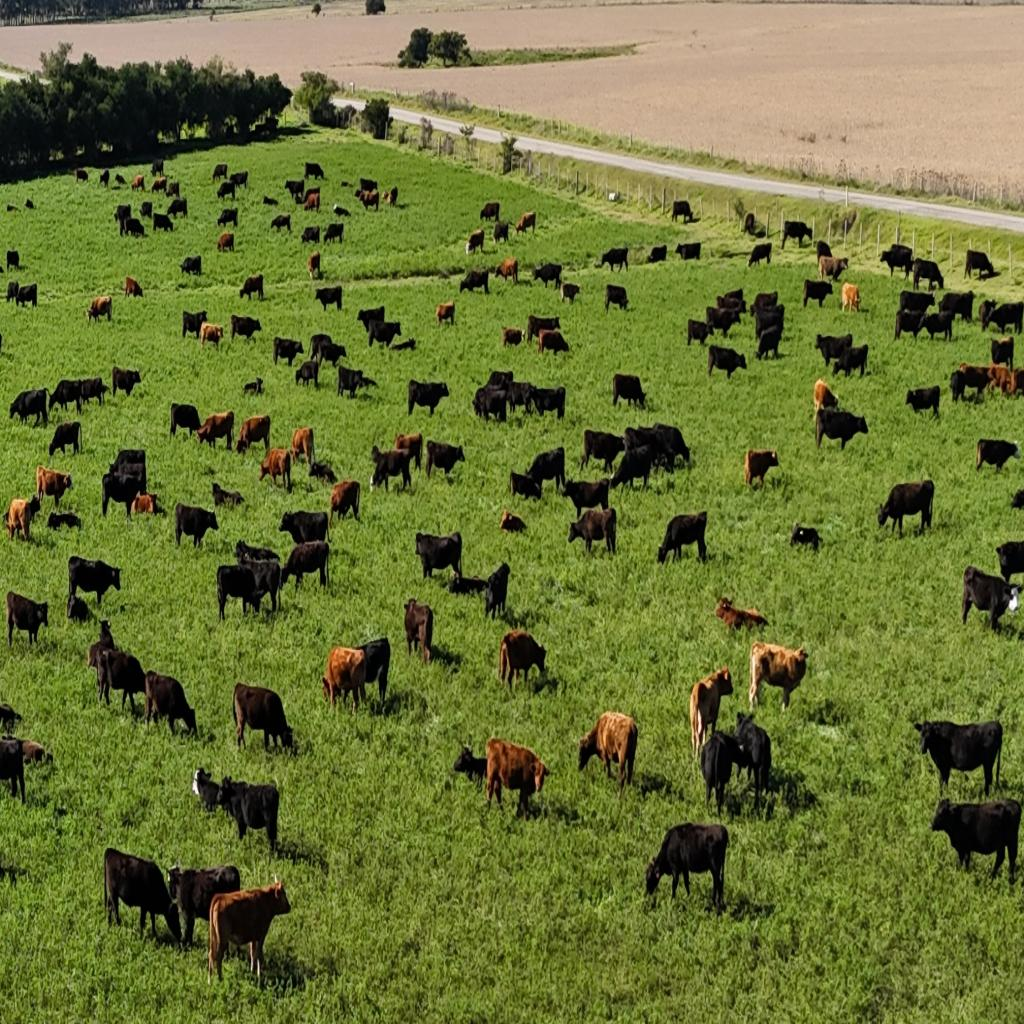cow: (207, 874, 293, 986), (931, 795, 1021, 882), (104, 847, 181, 941), (647, 822, 723, 914), (916, 716, 1003, 795), (168, 862, 241, 954), (483, 737, 548, 819), (579, 708, 638, 798), (220, 778, 282, 854), (232, 680, 293, 754), (699, 728, 747, 815), (750, 640, 808, 712), (960, 564, 1021, 632), (689, 664, 731, 759), (732, 707, 771, 805), (144, 669, 197, 735), (876, 477, 934, 537), (96, 646, 148, 712), (322, 646, 368, 712), (67, 555, 121, 610), (499, 629, 546, 692), (216, 563, 262, 622), (281, 539, 330, 593), (814, 406, 869, 454), (414, 529, 462, 582), (354, 636, 390, 706), (2, 737, 53, 786), (658, 513, 704, 566), (568, 505, 614, 556), (6, 590, 47, 646), (368, 445, 414, 494), (173, 502, 219, 549), (644, 423, 690, 469), (101, 471, 144, 520), (609, 446, 654, 492), (279, 508, 329, 548), (526, 446, 566, 494), (86, 624, 118, 684), (403, 598, 433, 660), (715, 598, 767, 633), (191, 766, 228, 814), (564, 476, 608, 516), (36, 464, 74, 510), (6, 494, 40, 544), (426, 439, 466, 481), (582, 430, 622, 472), (407, 378, 449, 417), (8, 388, 48, 428), (328, 479, 362, 526), (452, 744, 488, 788), (195, 411, 234, 451), (743, 448, 780, 490), (47, 420, 86, 459), (473, 384, 511, 424), (525, 385, 566, 422), (484, 562, 510, 620), (975, 438, 1019, 472), (258, 448, 292, 492), (952, 366, 989, 405), (984, 300, 1024, 336), (48, 378, 85, 416), (707, 344, 746, 380), (831, 344, 870, 380), (236, 414, 270, 455), (815, 332, 853, 368), (108, 448, 146, 484), (612, 372, 646, 410), (500, 380, 534, 418), (995, 540, 1024, 583), (880, 245, 914, 281), (336, 364, 370, 400), (706, 305, 742, 339), (393, 432, 423, 472), (234, 539, 280, 565), (905, 385, 940, 419), (986, 364, 1021, 398), (169, 402, 201, 438), (911, 258, 944, 292), (527, 314, 561, 347), (941, 292, 974, 325), (895, 308, 928, 341), (752, 303, 784, 337), (312, 337, 347, 368), (754, 324, 783, 361), (964, 250, 997, 282), (509, 470, 542, 502), (291, 426, 315, 470), (448, 572, 488, 598), (273, 336, 304, 368), (922, 312, 954, 343), (112, 365, 142, 398), (898, 290, 933, 318), (780, 220, 812, 250), (230, 314, 262, 343), (211, 482, 245, 509), (813, 378, 837, 416), (818, 255, 849, 284), (538, 328, 570, 356), (80, 377, 108, 409), (790, 523, 821, 551), (596, 246, 627, 274), (181, 309, 208, 341), (803, 280, 833, 308), (460, 268, 490, 296), (357, 306, 385, 336), (86, 294, 113, 324), (314, 285, 342, 313), (533, 262, 562, 289), (0, 702, 23, 736), (294, 359, 320, 389), (990, 336, 1015, 367), (500, 507, 527, 534), (746, 241, 772, 269), (238, 274, 264, 302), (48, 511, 81, 533), (66, 594, 90, 624), (688, 319, 712, 349), (199, 321, 224, 349), (308, 460, 336, 484), (604, 284, 628, 312), (494, 256, 518, 284), (751, 290, 779, 314), (840, 282, 860, 314), (717, 288, 745, 310), (484, 370, 513, 390), (435, 300, 455, 328), (355, 189, 378, 213), (672, 199, 694, 224), (16, 283, 38, 308), (121, 217, 146, 239), (515, 210, 536, 236), (114, 204, 132, 234), (0, 856, 18, 886), (180, 254, 202, 278), (502, 326, 524, 349), (742, 212, 763, 236), (323, 222, 344, 246), (166, 198, 188, 220), (676, 242, 700, 262), (560, 281, 580, 305), (284, 179, 304, 203), (466, 228, 484, 254), (479, 201, 500, 223), (300, 224, 321, 246), (216, 208, 238, 229), (123, 276, 143, 299), (492, 220, 510, 245), (242, 378, 264, 398), (152, 212, 174, 232), (216, 230, 234, 254), (388, 337, 416, 352), (646, 244, 667, 264), (307, 251, 321, 280), (304, 162, 324, 182), (216, 181, 236, 201), (270, 214, 292, 232), (229, 171, 248, 191), (358, 176, 378, 194), (304, 190, 320, 212), (6, 280, 20, 304), (816, 240, 832, 261), (6, 249, 20, 271), (150, 177, 167, 195), (212, 163, 228, 182), (382, 188, 396, 207), (332, 204, 350, 218), (131, 174, 145, 192), (150, 160, 164, 177), (166, 181, 180, 198), (74, 168, 88, 184), (98, 170, 110, 188), (262, 195, 280, 207), (140, 202, 152, 220), (1015, 488, 1024, 510), (114, 174, 126, 186), (25, 198, 34, 210), (6, 204, 19, 212), (340, 181, 352, 188)
